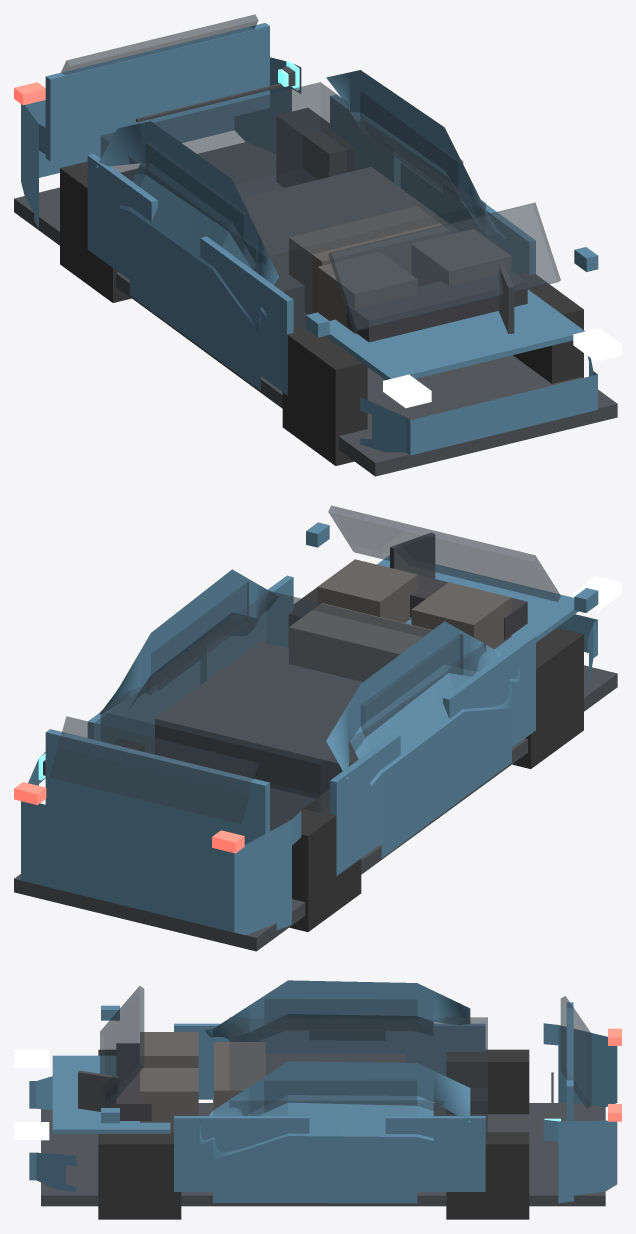
The model's file is sport_sedan.glb.
3 renders of one model, top to bottom at view 1: azimuth 30°, elevation 25°; view 2: azimuth 150°, elevation 25°; view 3: azimuth 270°, elevation 25°, orthographic. The views are drawn at different scales.
Visible parts, largest first — view 1: body_mesh, cab_mesh, liftgate_mesh, windshield, trim_mesh, frunk_mesh, wheel_well_mesh, tire_fr, seat_rear, dash, door_fr_mesh, door_rr_mesh (+14 smaller); view 2: body_mesh, cab_mesh, wheel_well_mesh, liftgate_mesh, rear_glass, windshield, trim_mesh, seat_rear, tire_fr, tire_rr, door_rr_mesh, door_fr_mesh (+10 smaller); view 3: body_mesh, cab_mesh, trim_mesh, tire_fl, door_rl_mesh, door_fl_mesh, tire_rl, window_fixed_r, tire_rr, frunk_mesh, window_fixed_l, windshield (+12 smaller).
Boxes of the visible parts, x1,y1,x2,y2 form: body_mesh: (21,57,597,455); cab_mesh: (100,82,485,328); liftgate_mesh: (45,23,269,161); windshield: (328,202,560,331); trim_mesh: (14,142,617,476); frunk_mesh: (326,289,584,379); wheel_well_mesh: (241,167,459,327); tire_fr: (282,325,367,465); seat_rear: (289,206,449,314); dash: (346,271,527,342); door_fr_mesh: (200,236,293,394); door_rr_mesh: (87,154,157,279); body_mesh: (21,569,597,935); cab_mesh: (100,591,485,830); wheel_well_mesh: (155,641,362,798); liftgate_mesh: (45,729,269,845); rear_glass: (50,716,258,824); windshield: (328,505,560,601); trim_mesh: (14,665,617,951); seat_rear: (289,603,432,681); tire_fr: (512,627,583,768); tire_rr: (278,789,361,931); door_rr_mesh: (330,734,400,876); door_fr_mesh: (443,634,535,747); body_mesh: (29,980,617,1203); cab_mesh: (229,1017,487,1138); trim_mesh: (41,1103,605,1206); tire_fl: (98,1132,181,1219); door_rl_mesh: (385,1116,485,1191); door_fl_mesh: (174,1116,309,1191); tire_rl: (446,1132,529,1219); window_fixed_r: (264,999,416,1030); tire_rr: (446,1049,529,1114); frunk_mesh: (52,1055,170,1133); window_fixed_l: (264,1079,416,1112); windshield: (100,986,144,1109).
Bounding box in the file's own units: 2.15 × 1.72 × 5.17.
